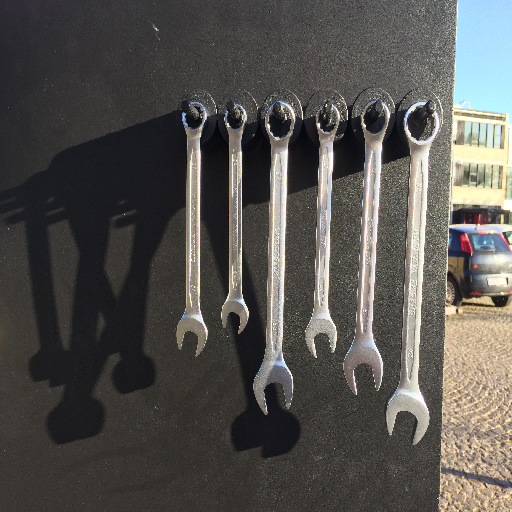bottom: (384, 386, 432, 445), (343, 338, 386, 396), (252, 360, 294, 417), (172, 315, 210, 356), (303, 314, 339, 357), (220, 296, 250, 335)
top: (401, 100, 443, 147), (262, 99, 299, 144), (357, 98, 394, 139), (313, 100, 343, 138), (180, 100, 209, 133), (222, 103, 249, 134)
